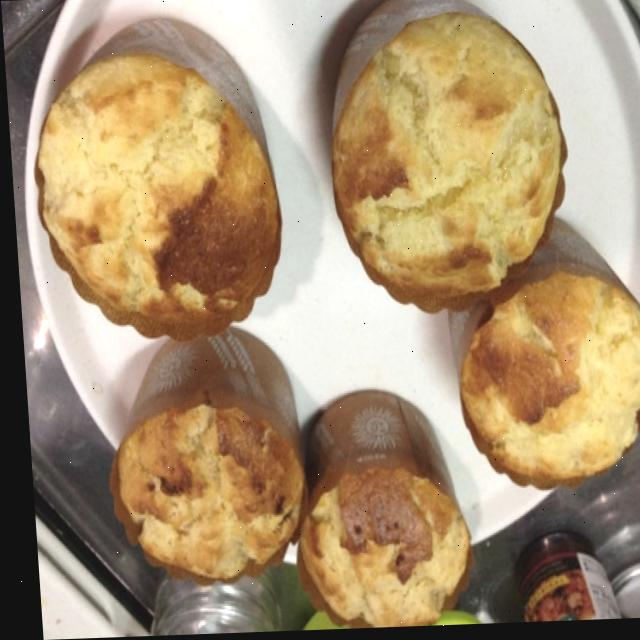炸货点心: (46, 0, 640, 639)
面包点心: (46, 0, 640, 639)
